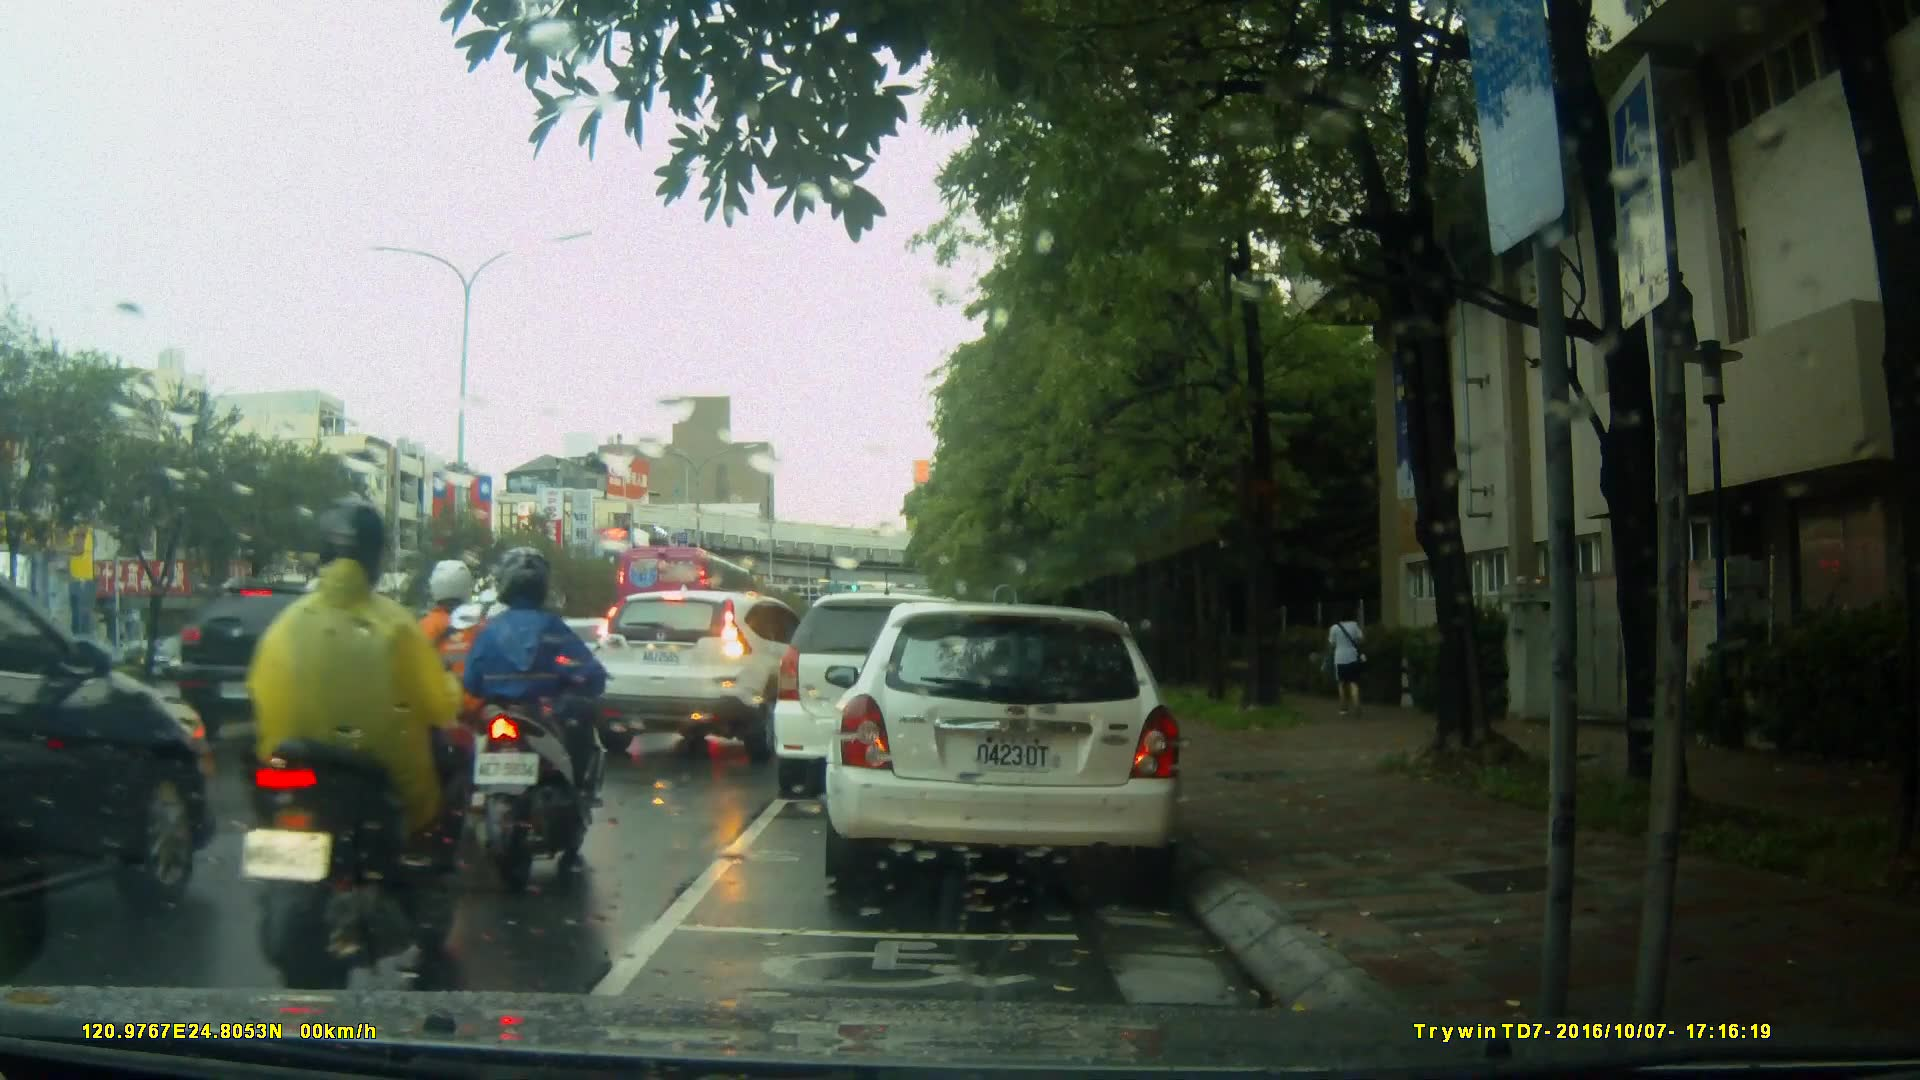pedestrian: (1316, 594, 1375, 729)
rider: (234, 497, 466, 989), (456, 549, 606, 873), (387, 558, 511, 862)
vehicle: (835, 594, 1194, 898), (578, 586, 849, 767), (776, 590, 1026, 784), (158, 571, 411, 751), (616, 544, 755, 637)
